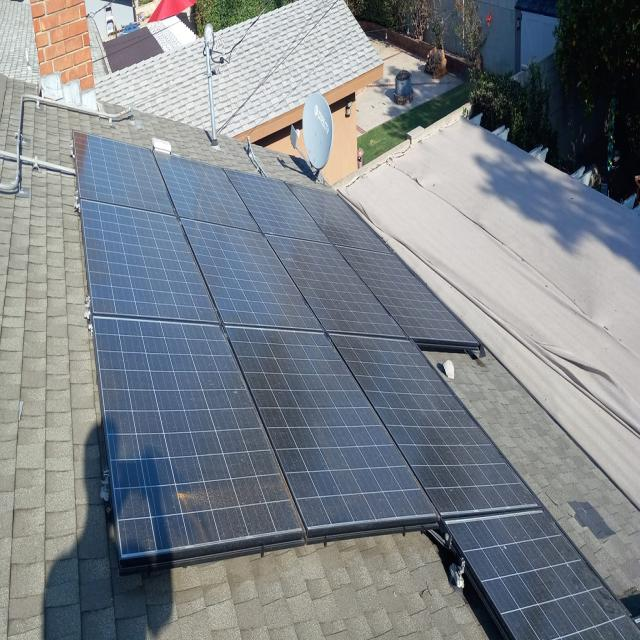dust-solar-panel: (73, 130, 640, 640)
